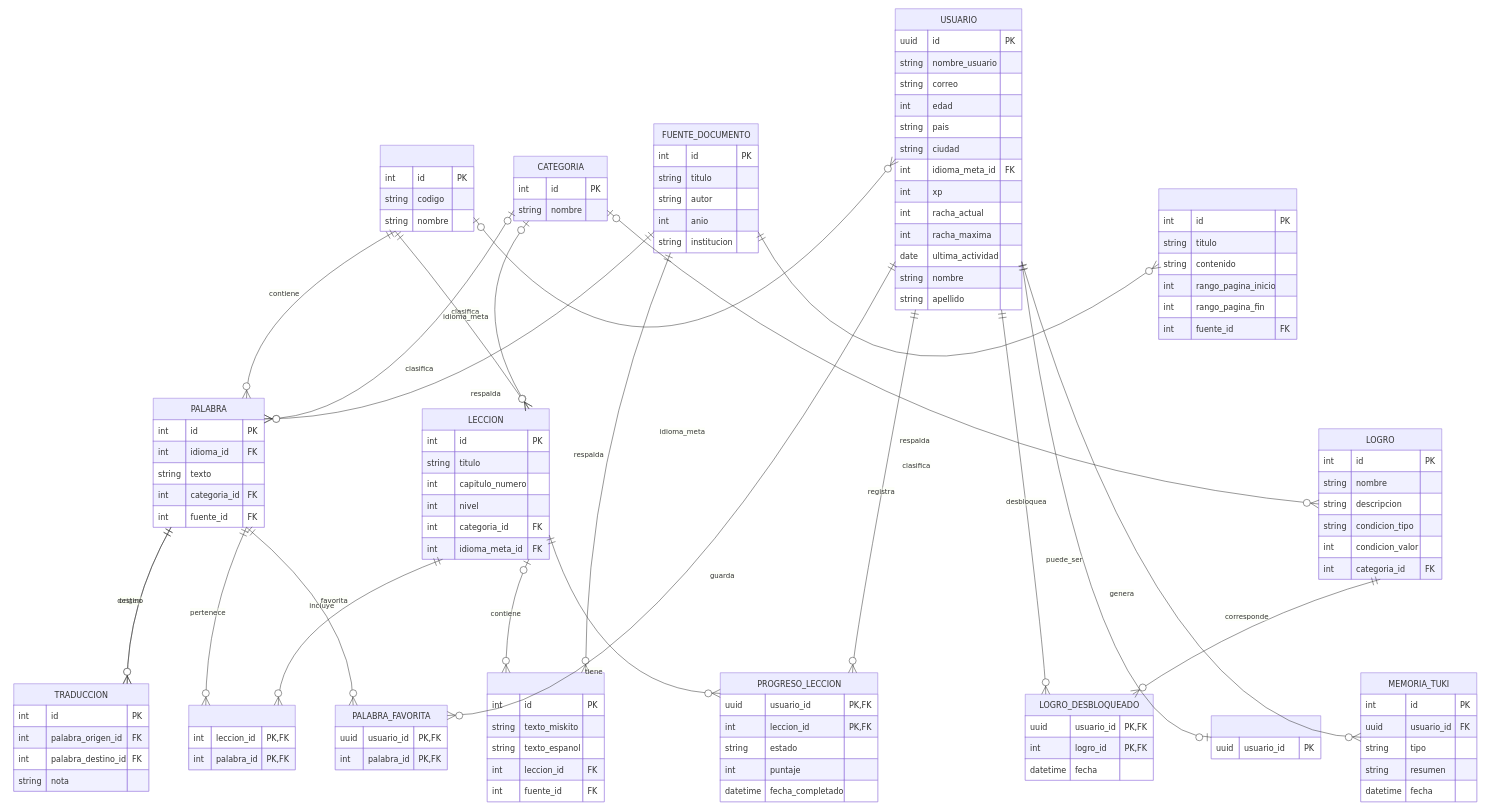
Image size: 1486x811. Some labels were removed from this diagram. The box of each missing label's shape, as (x1, y1, x2, y2) in pixels:
CULTURA_CONTENIDO: (1158, 188, 1297, 339)
IDIOMA: (380, 145, 474, 231)
LECCION_PALABRA: (188, 705, 295, 770)
ORACION_EJEMPLO: (487, 672, 604, 802)
SUPER_ADMINISTRADOR: (1211, 715, 1321, 759)
